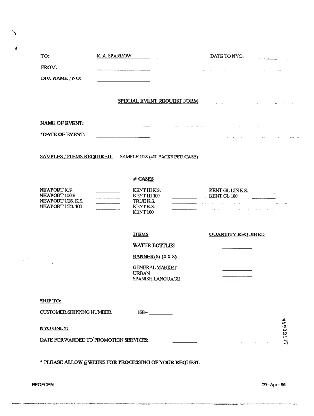textline: (95, 65, 151, 72), (95, 132, 150, 139), (95, 76, 151, 82), (96, 53, 151, 59), (95, 121, 150, 127), (221, 243, 252, 250), (221, 265, 252, 272), (221, 276, 252, 283), (221, 271, 252, 277), (252, 54, 277, 61), (95, 187, 120, 194), (95, 198, 120, 205), (171, 187, 196, 194), (171, 198, 196, 205), (171, 203, 196, 210), (171, 209, 196, 216), (250, 193, 275, 200), (172, 337, 197, 344), (95, 193, 120, 199), (95, 204, 120, 210), (171, 193, 196, 199), (250, 188, 275, 194), (148, 310, 173, 316)
